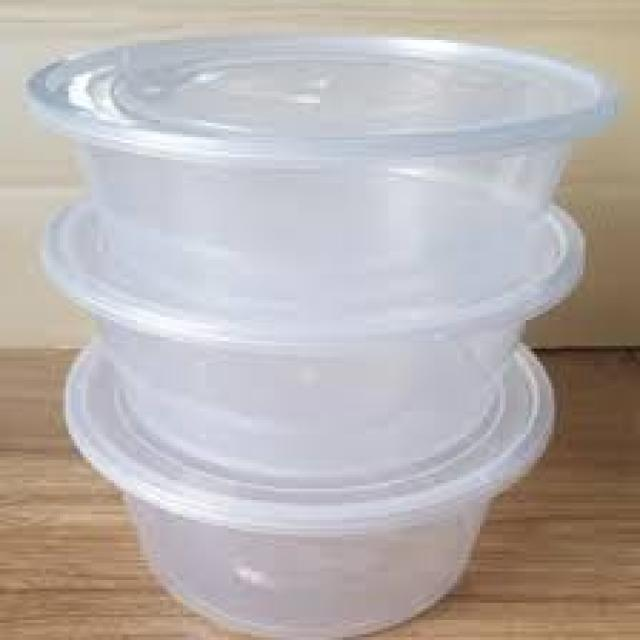disposable: (57, 316, 572, 640), (26, 24, 614, 298), (39, 181, 570, 471)
